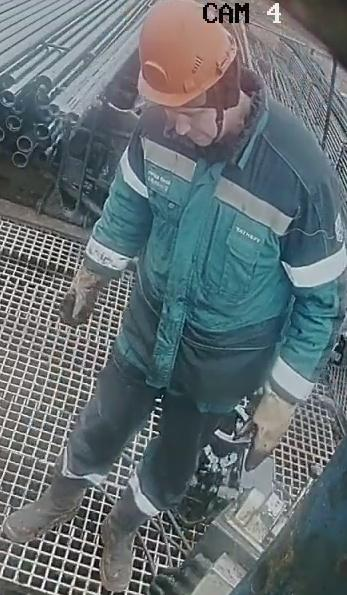gloves: (228, 378, 299, 475), (57, 262, 109, 328)
helmet: (136, 0, 238, 107)
vest: (114, 90, 345, 407)
